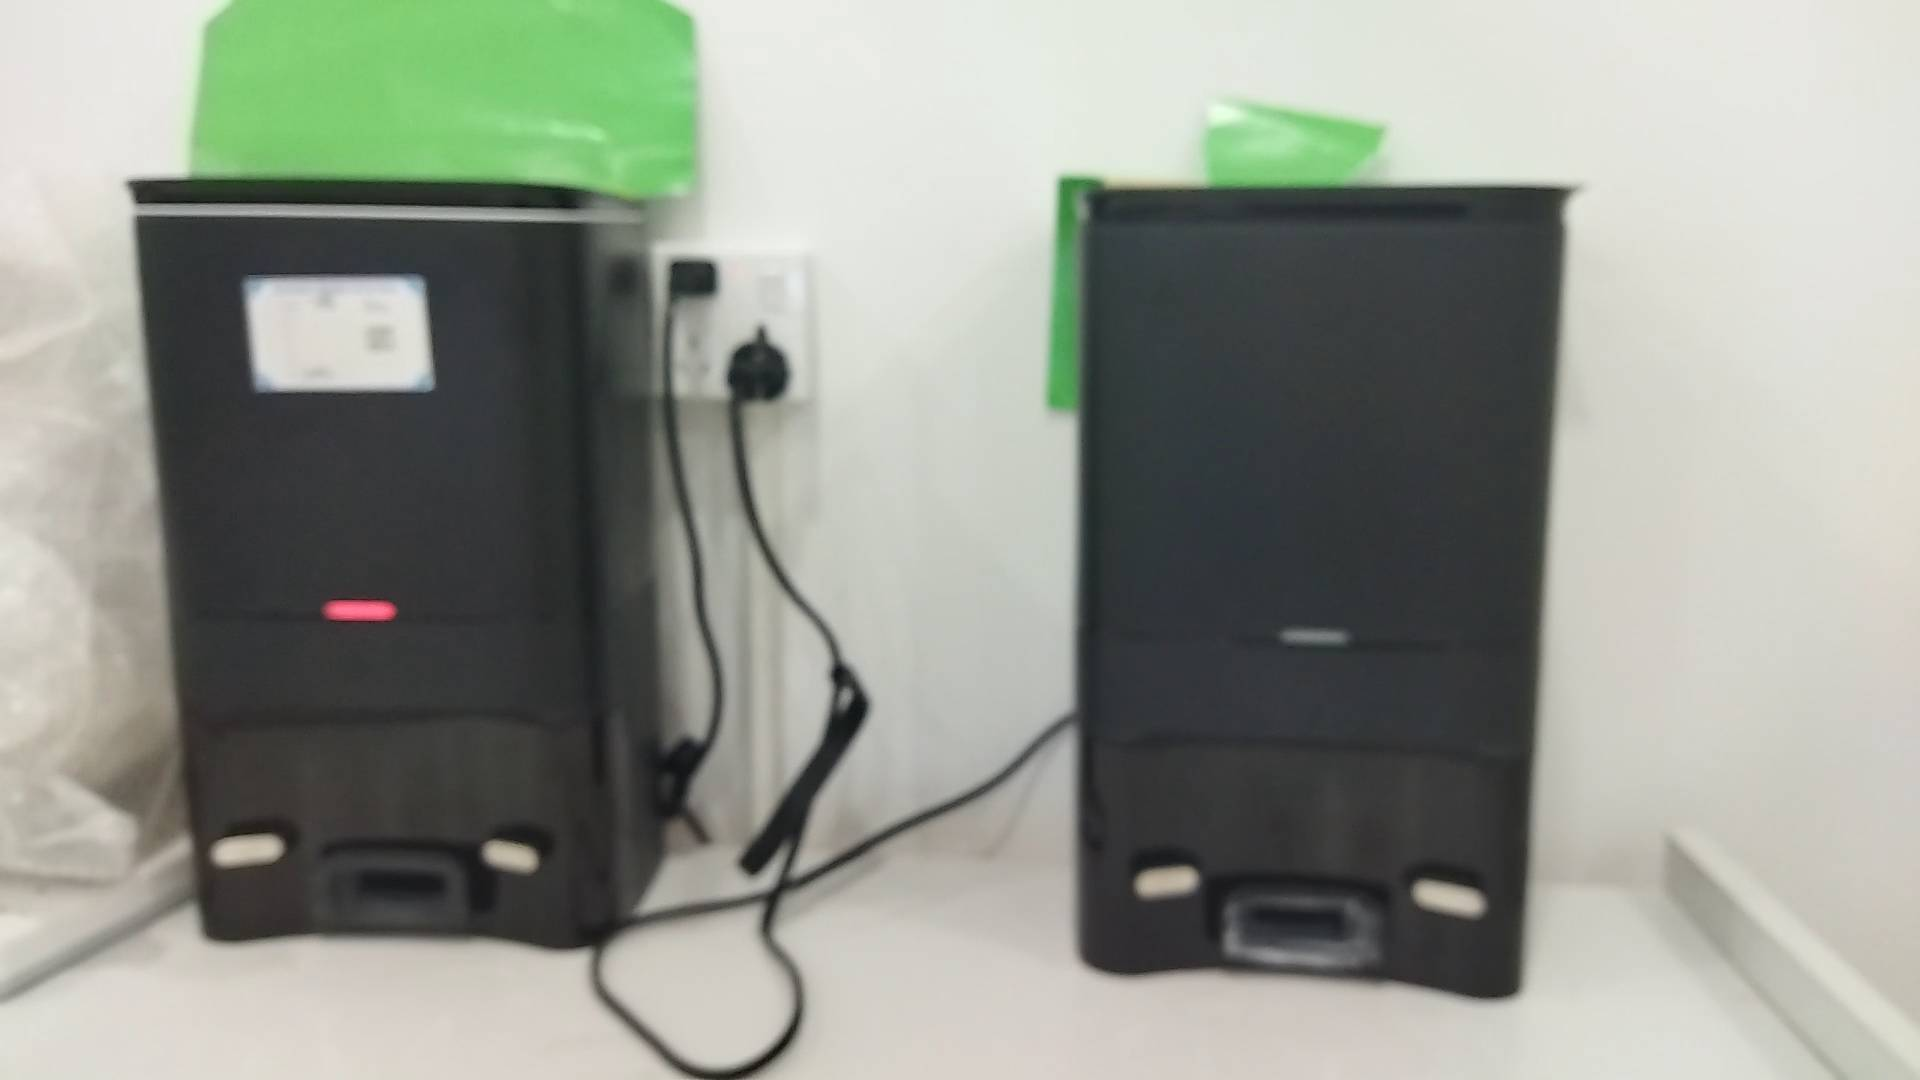dust collecting barrel: (129, 179, 662, 949), (1075, 185, 1572, 996)
